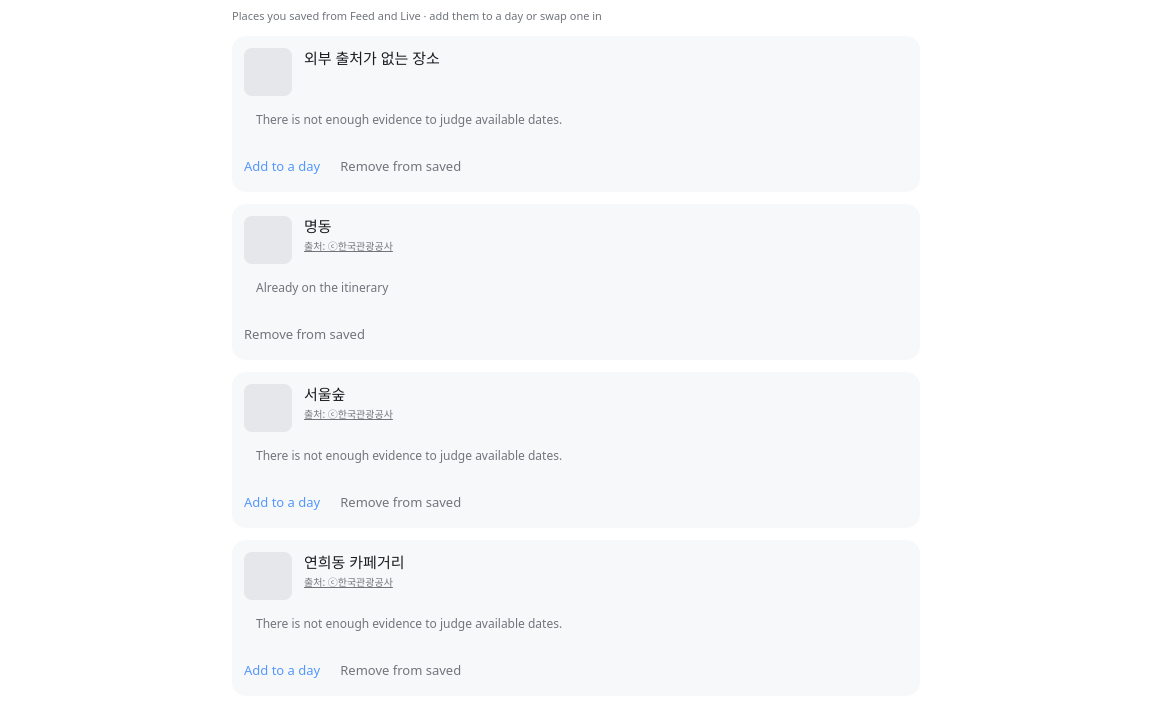
FE-303-T2 the five match states each say their own thing › keeps the UNKNOWN explanation inside an empty date sheet
(page scrolled)
Expected: the heading "연희동 카페거리" is shown, [304,552,404,572]
Click the button "Add to a day" below "연희동 카페거리" at (282,670), box [244,648,320,692]
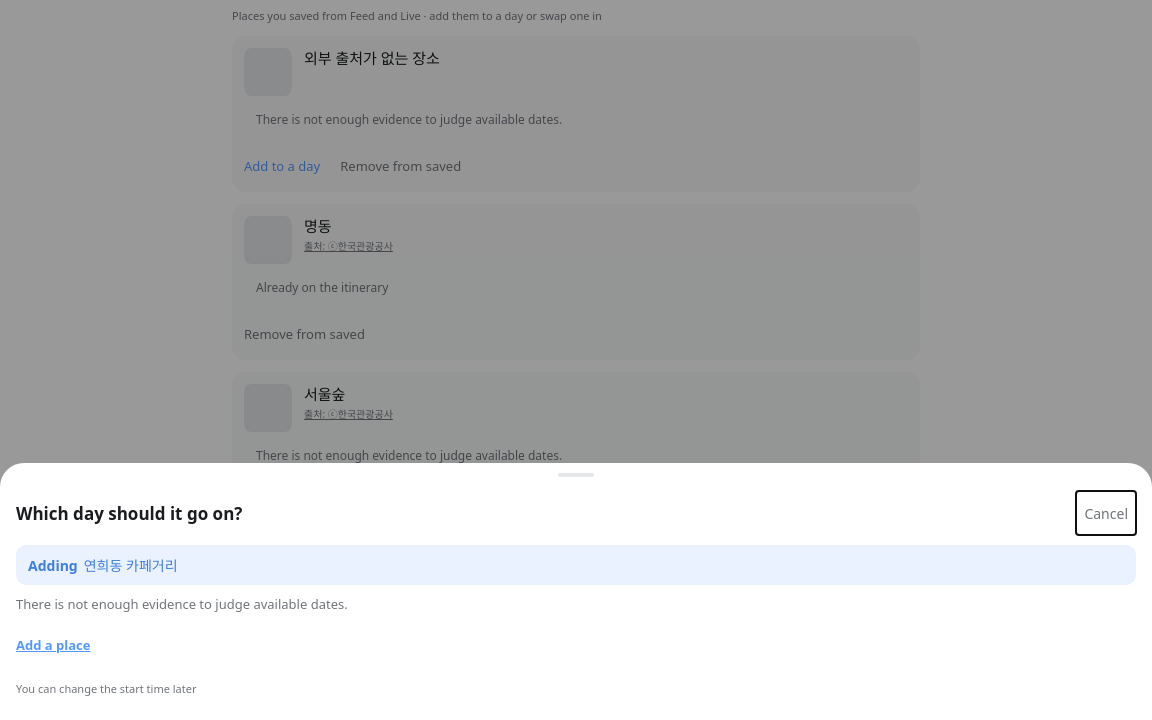
Now the text "There is not enough evidence to judge available dates." is shown, box [16,595,348,613]
